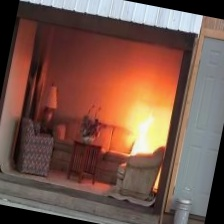fire: (126, 99, 170, 164)
